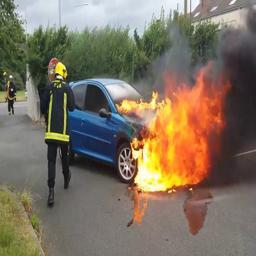fire: (114, 62, 231, 193), (115, 90, 165, 114)
